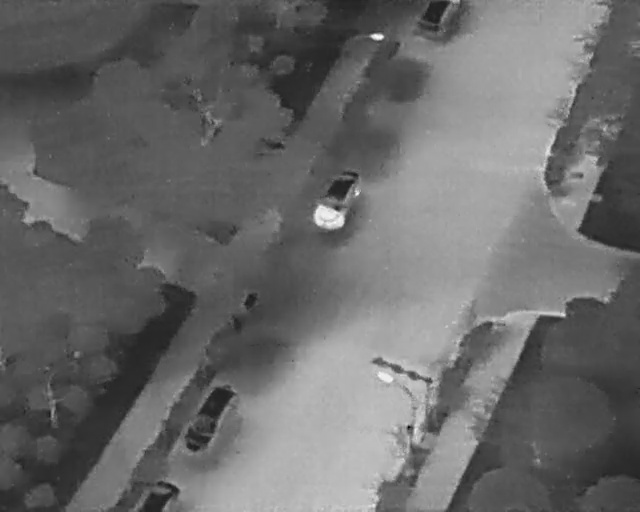Car: (175, 375, 242, 461), (306, 159, 366, 235), (411, 0, 462, 43), (136, 480, 181, 510)
